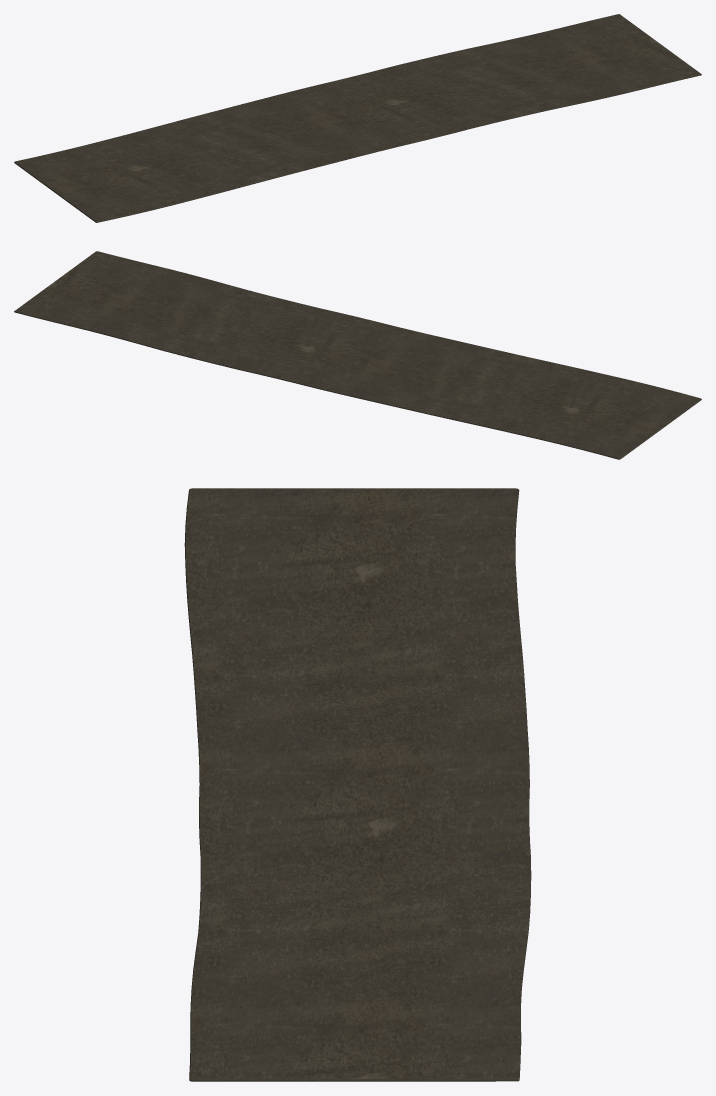
Rendered from SM_Carpet_02a.fbx.
3 views of the same model, one above another, from view 1: azimuth 30°, elevation 25°; view 2: azimuth 150°, elevation 25°; view 3: azimuth 270°, elevation 25° (orthographic). The views are drawn at different scales.
Parts seen in each view (by area): view 1: SM_Carpet_02a_LOD0; view 2: SM_Carpet_02a_LOD0; view 3: SM_Carpet_02a_LOD0.
Part boxes in pixels (box(x1,y1,x2,y2)): SM_Carpet_02a_LOD0: box(14, 14, 701, 222); SM_Carpet_02a_LOD0: box(14, 251, 701, 459); SM_Carpet_02a_LOD0: box(184, 488, 531, 1081).
Size of the model in its own units: 762 by 188 by 1.37.
Materials: 1 (1 with a texture image).
